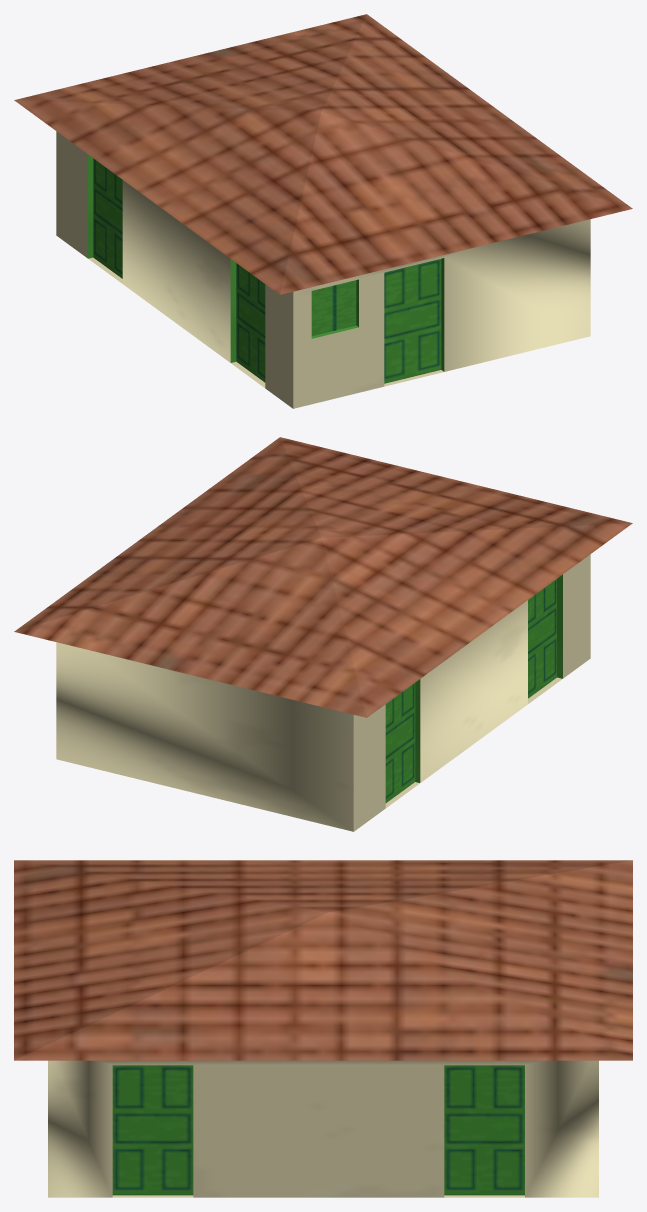
File: Casa das Bombas.fbx
3 renders of one model, top to bottom at view 1: azimuth 30°, elevation 25°; view 2: azimuth 150°, elevation 25°; view 3: azimuth 270°, elevation 25°, orthographic. The views are drawn at different scales.
Parts seen in each view (by area): view 1: Casa das Bombas; view 2: Casa das Bombas; view 3: Casa das Bombas.
Boxes of the visible parts, x1,y1,x2,y2 form: Casa das Bombas: (14, 14, 632, 408); Casa das Bombas: (14, 437, 632, 831); Casa das Bombas: (14, 860, 632, 1197).
Bounding box in the file's own units: 2604 × 1216 × 3400.
